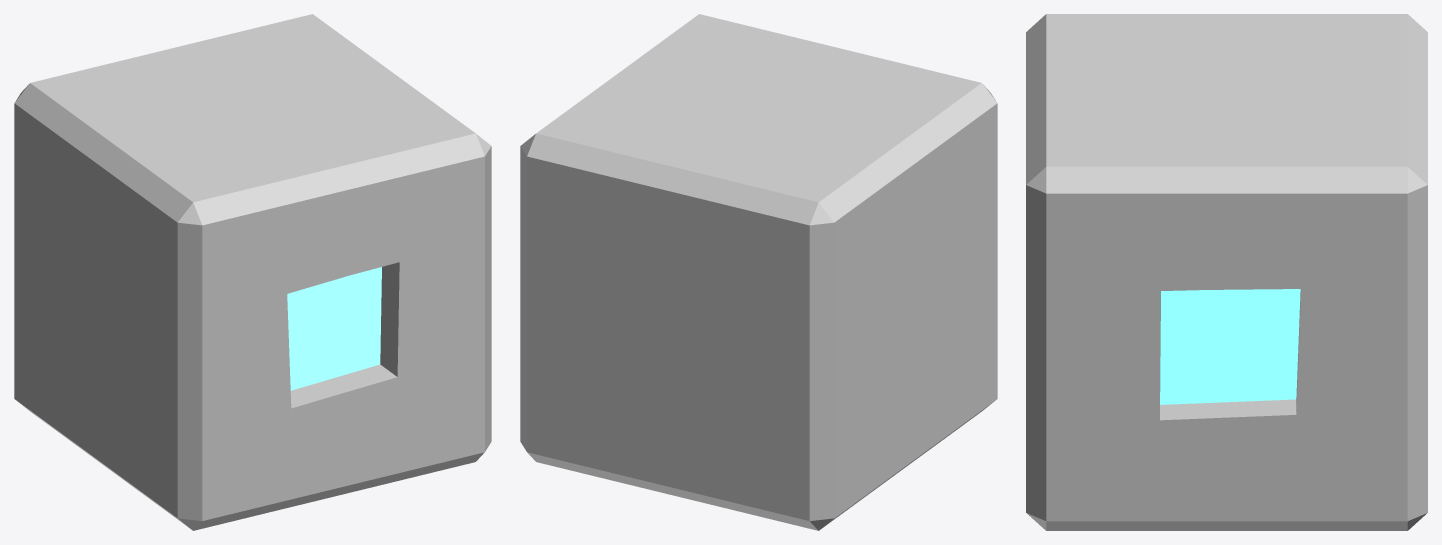
Rendered from Kupkare.fbx.
3 views of the same model, side by side, from view 1: azimuth 30°, elevation 25°; view 2: azimuth 150°, elevation 25°; view 3: azimuth 270°, elevation 25° (orthographic). The views are drawn at different scales.
Parts seen in each view (by area): view 1: Cube.008; view 2: Cube.008; view 3: Cube.008.
Boxes of the visible parts, x1,y1,x2,y2 form: Cube.008: (14, 14, 491, 530); Cube.008: (520, 14, 997, 530); Cube.008: (1026, 14, 1427, 530).
Bounding box in the file's own units: 119 × 119 × 119.
